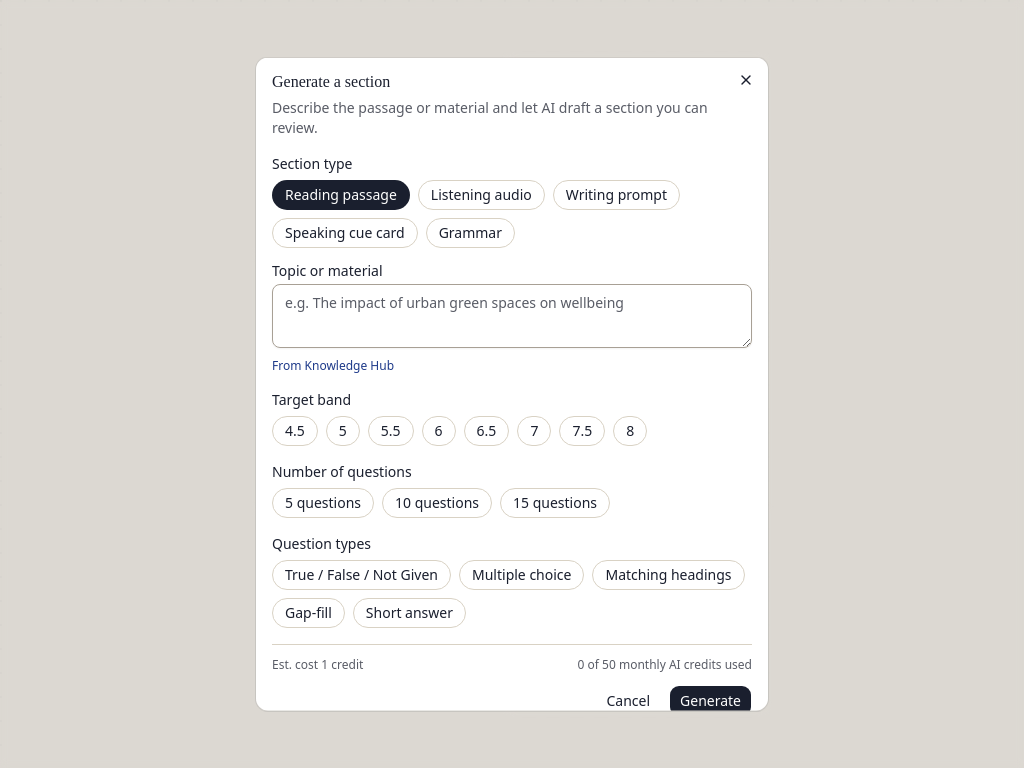
Scenario: AIGenerateDialog — failure + stuck surfaces (AC4, AC5) › generic failure and invalid_ai_response show DISTINCT messages + actions
The image size is (1024, 768).
In the text box with test id "ai-topic-input": coordinates (512, 316) [272,284,752,348], type "urban green spaces"
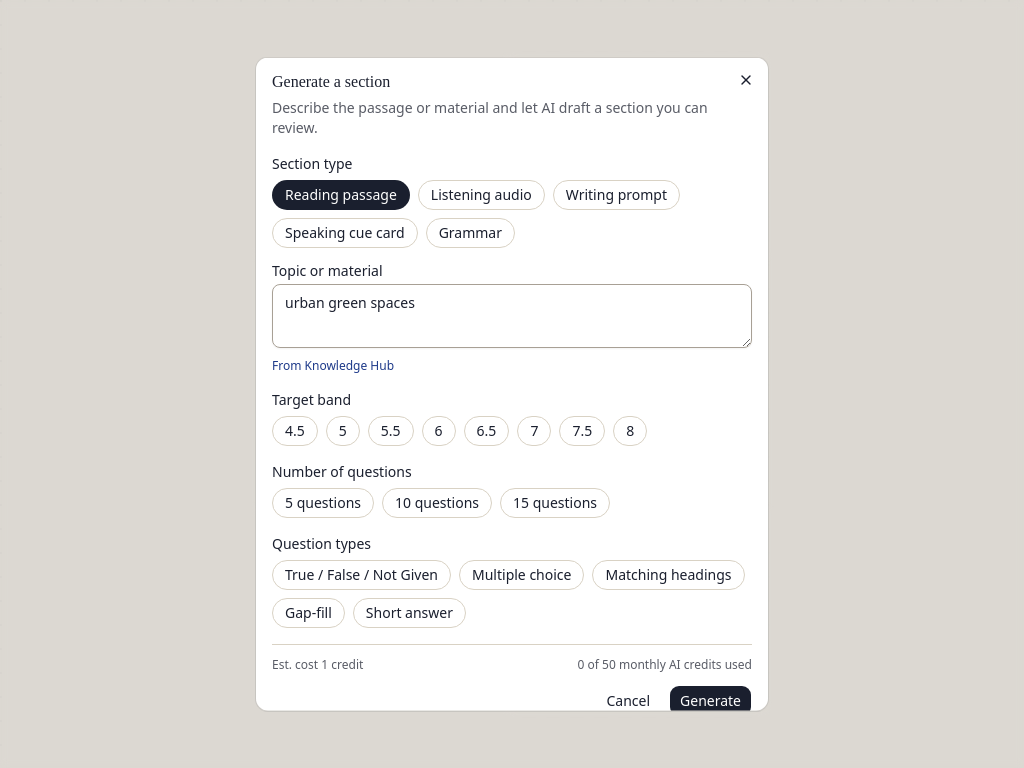
Click the button with test id "ai-generate-submit": coordinates (710, 701) [669,685,752,717]
Wait 2011 ms
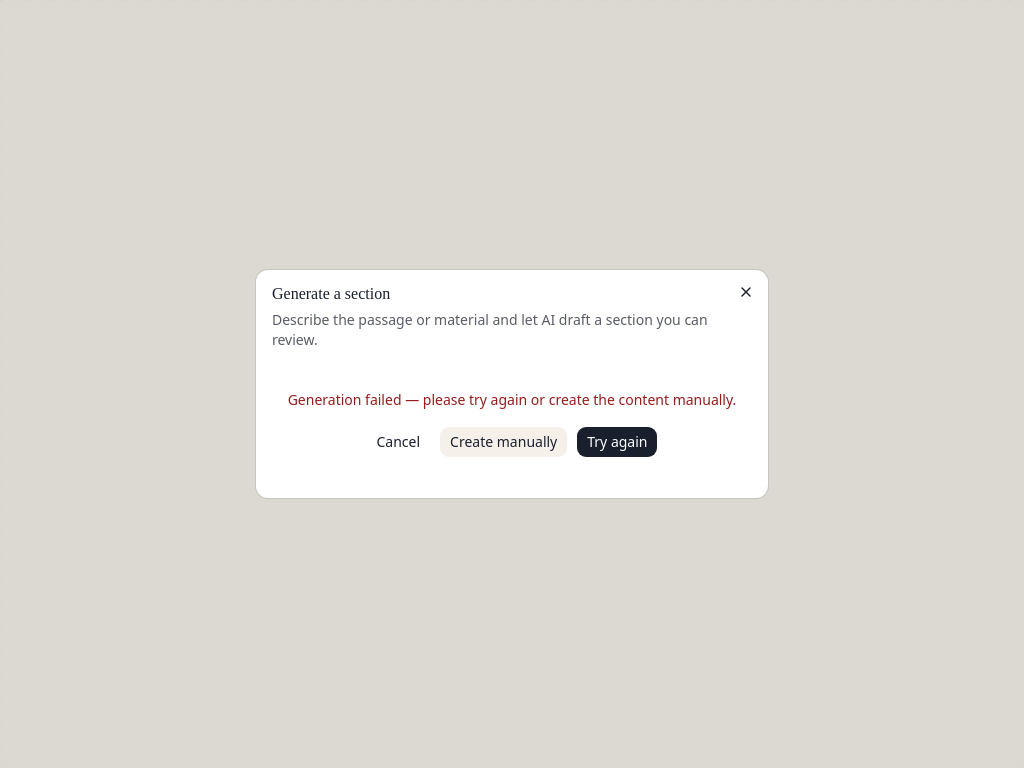
Expected: the element with test id "ai-failed" shows "Generation failed — please try again or create the content manually.", [288,390,736,409]
Expected: the link with test id "ai-failed-manual" is shown, [439,426,568,458]
